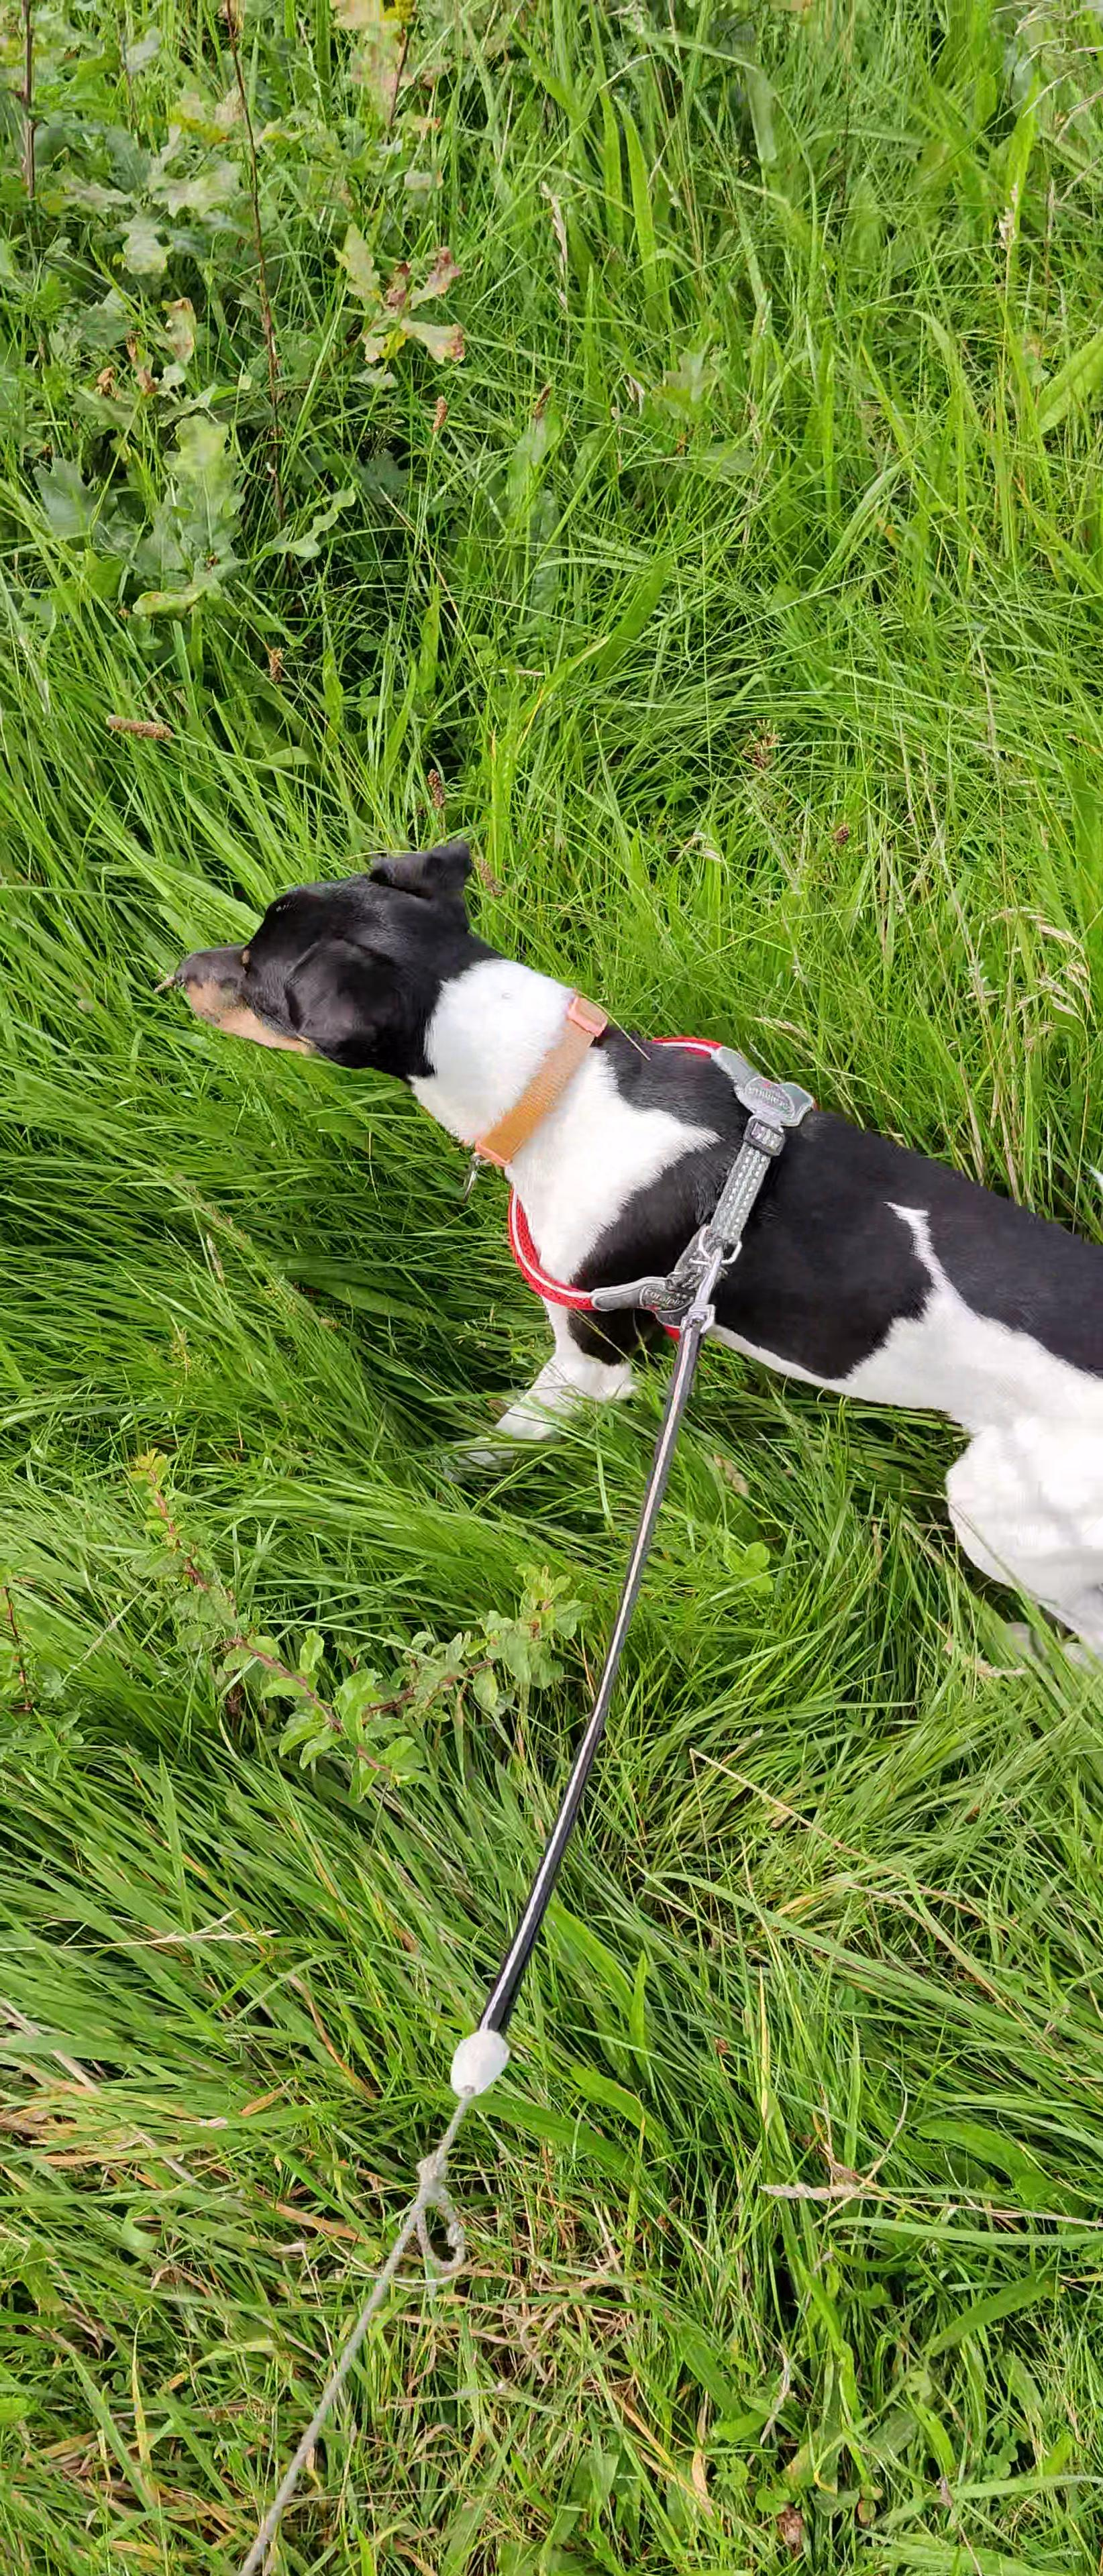Dog: (148, 812, 1103, 1690)
